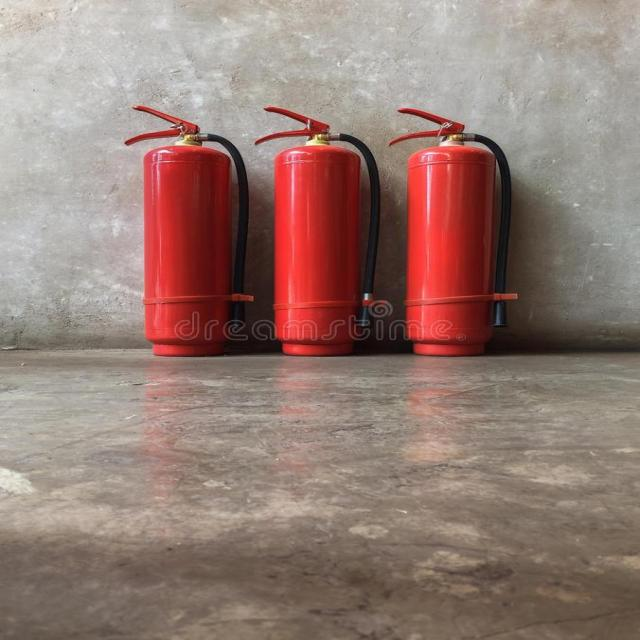fire_extinguisher: (382, 96, 520, 362), (249, 100, 390, 358), (119, 100, 256, 361)
